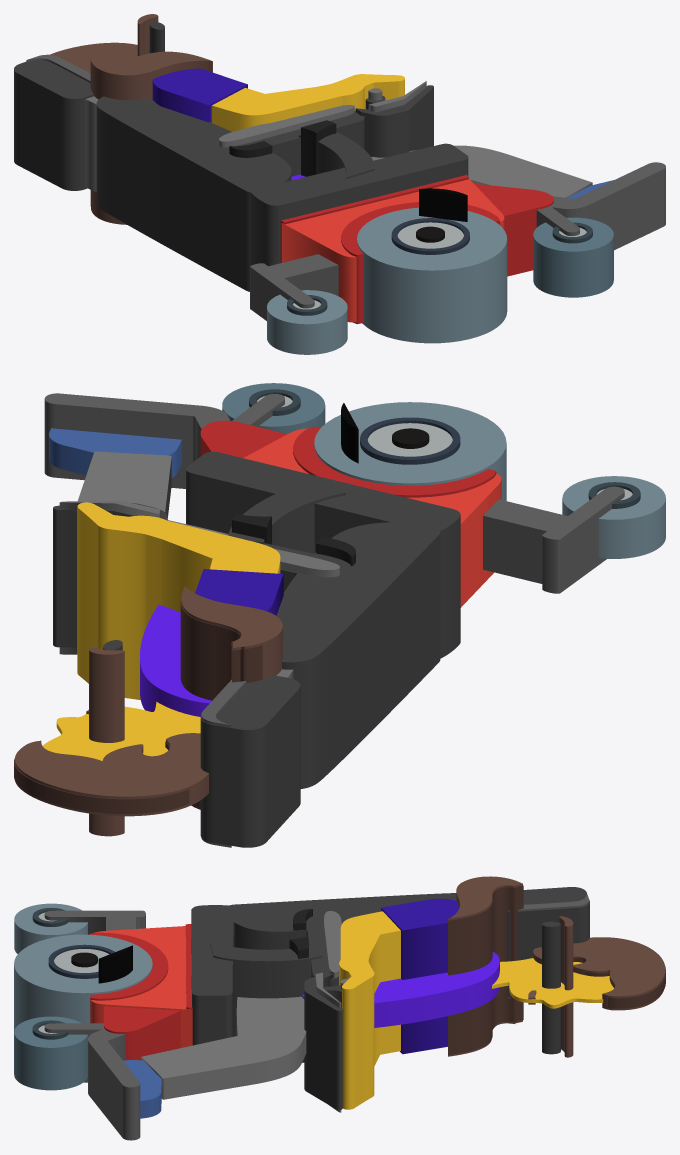
Rendered from emoji_u1f469_200d_1f9bc_200d_27a1.glb.
3 views of the same model, one above another, from view 1: azimuth 30°, elevation 25°; view 2: azimuth 150°, elevation 25°; view 3: azimuth 270°, elevation 25° (orthographic). The views are drawn at different scales.
Parts seen in each view (by area): view 1: emoji_u1f469_200d_1f9bc_200d_27a1; view 2: emoji_u1f469_200d_1f9bc_200d_27a1; view 3: emoji_u1f469_200d_1f9bc_200d_27a1.
Boxes of the visible parts, <box> form: emoji_u1f469_200d_1f9bc_200d_27a1: <box>14,14,665,354</box>; emoji_u1f469_200d_1f9bc_200d_27a1: <box>14,383,665,847</box>; emoji_u1f469_200d_1f9bc_200d_27a1: <box>14,876,665,1140</box>.
Size of the model in its own units: 0.0238 by 0.0078 by 0.0334.
